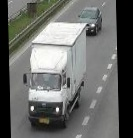truck: (23, 22, 88, 132)
